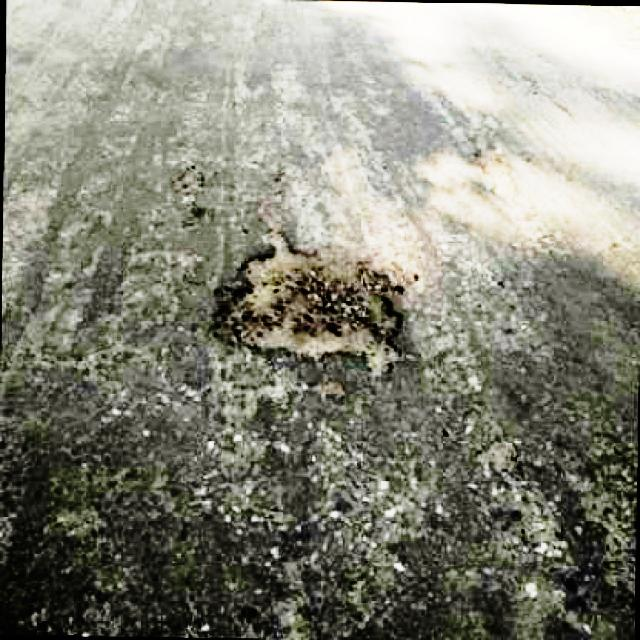pothole: (211, 217, 418, 381), (480, 423, 640, 619), (469, 140, 528, 217)
